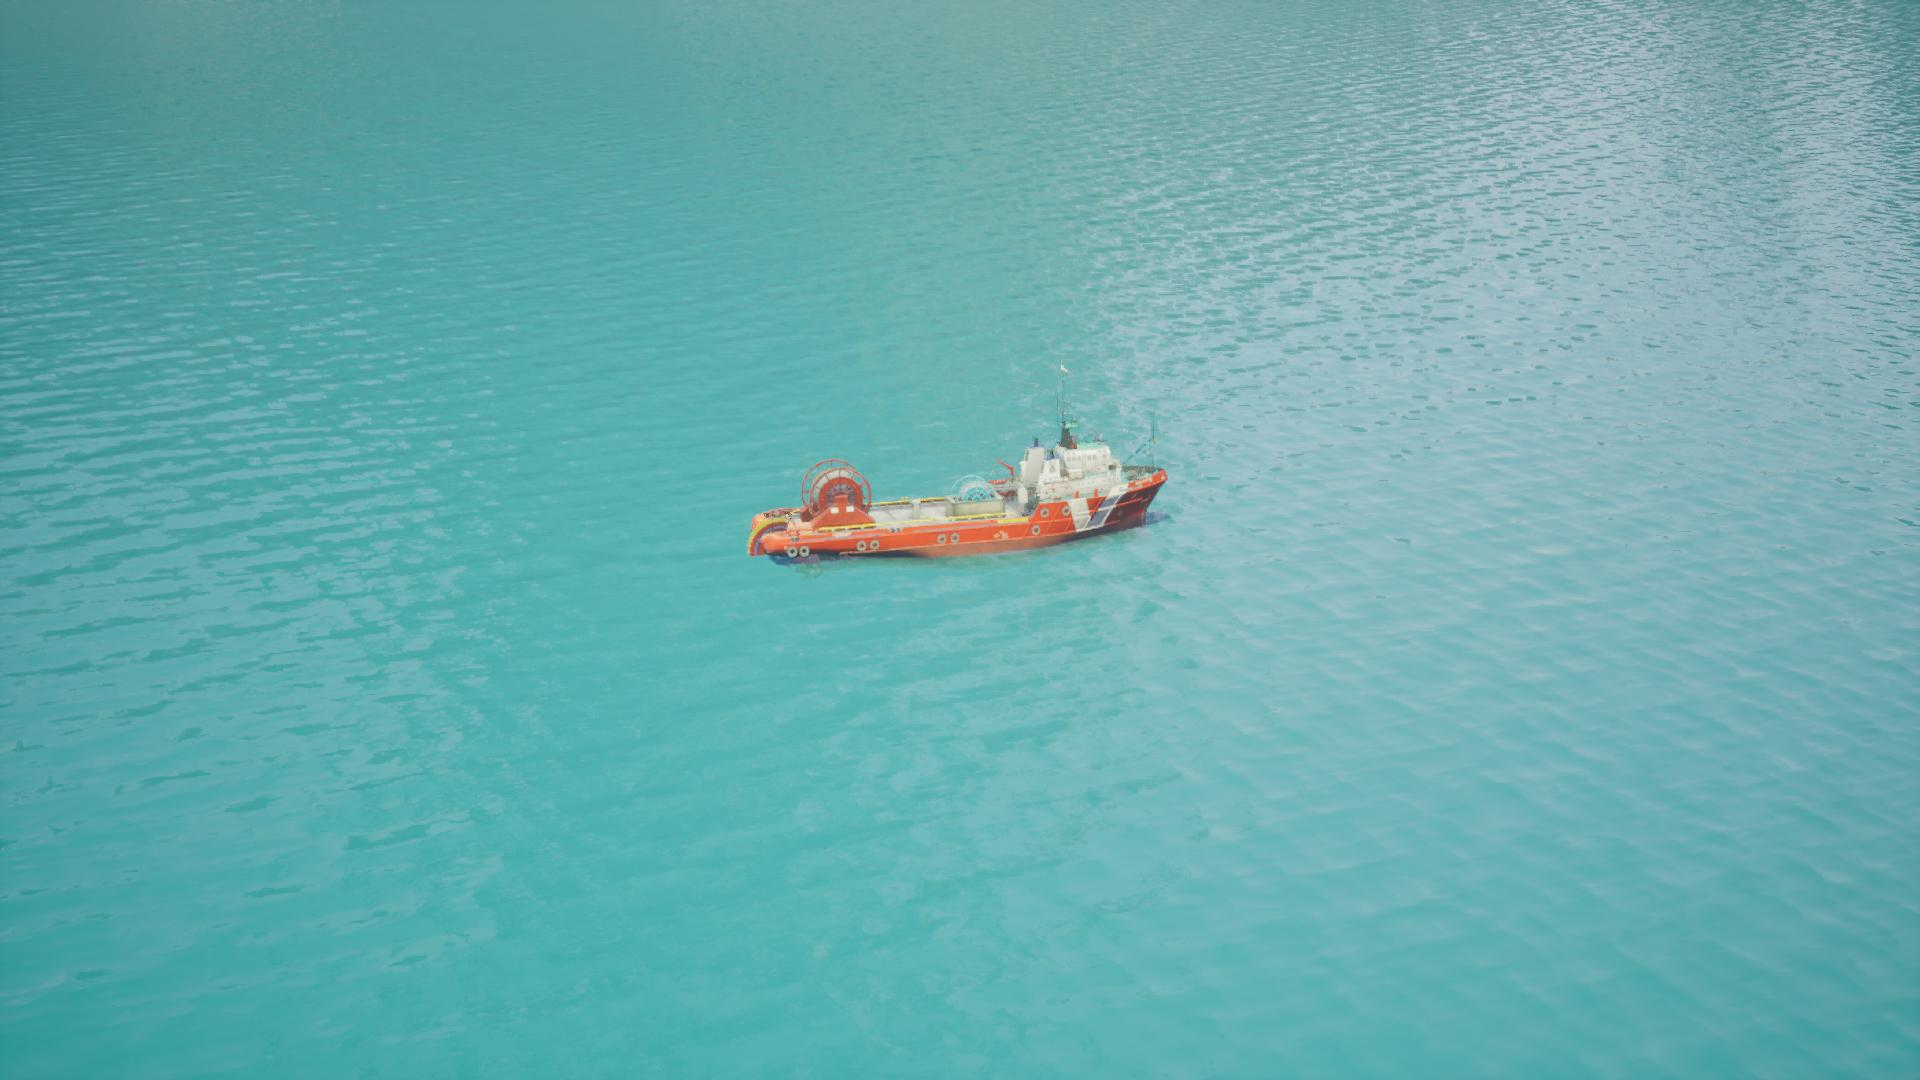Tug Boat: (744, 431, 1174, 566)
